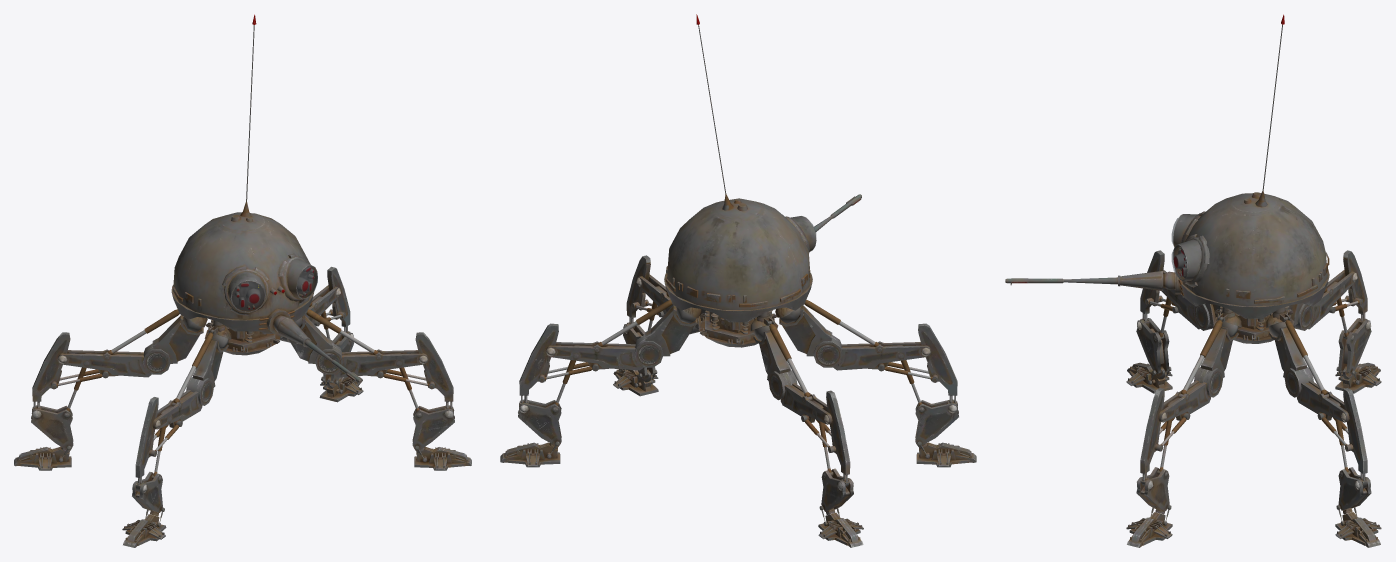
File: dwarfspider.glb
3 renders of one model, left to right at view 1: azimuth 30°, elevation 25°; view 2: azimuth 150°, elevation 25°; view 3: azimuth 270°, elevation 25°, orthographic. The views are drawn at different scales.
Size of the model in its own units: 3.03 by 3.59 by 2.68.
2 materials, 1 textured.
